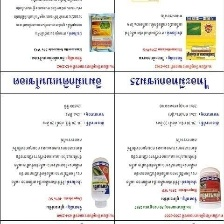insecticide: (183, 14, 217, 61), (86, 9, 116, 54), (198, 165, 223, 210), (90, 156, 111, 207)
